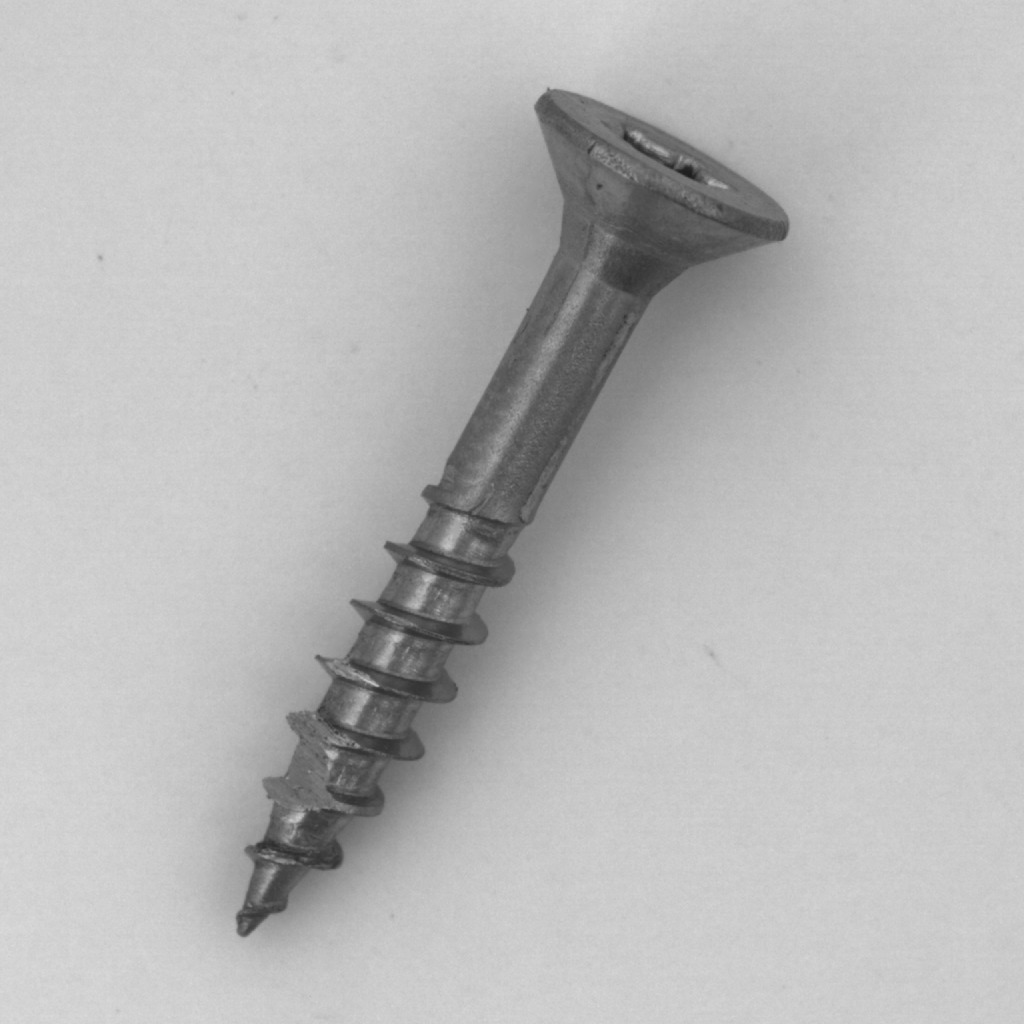thread_top: (200, 679, 432, 871)
